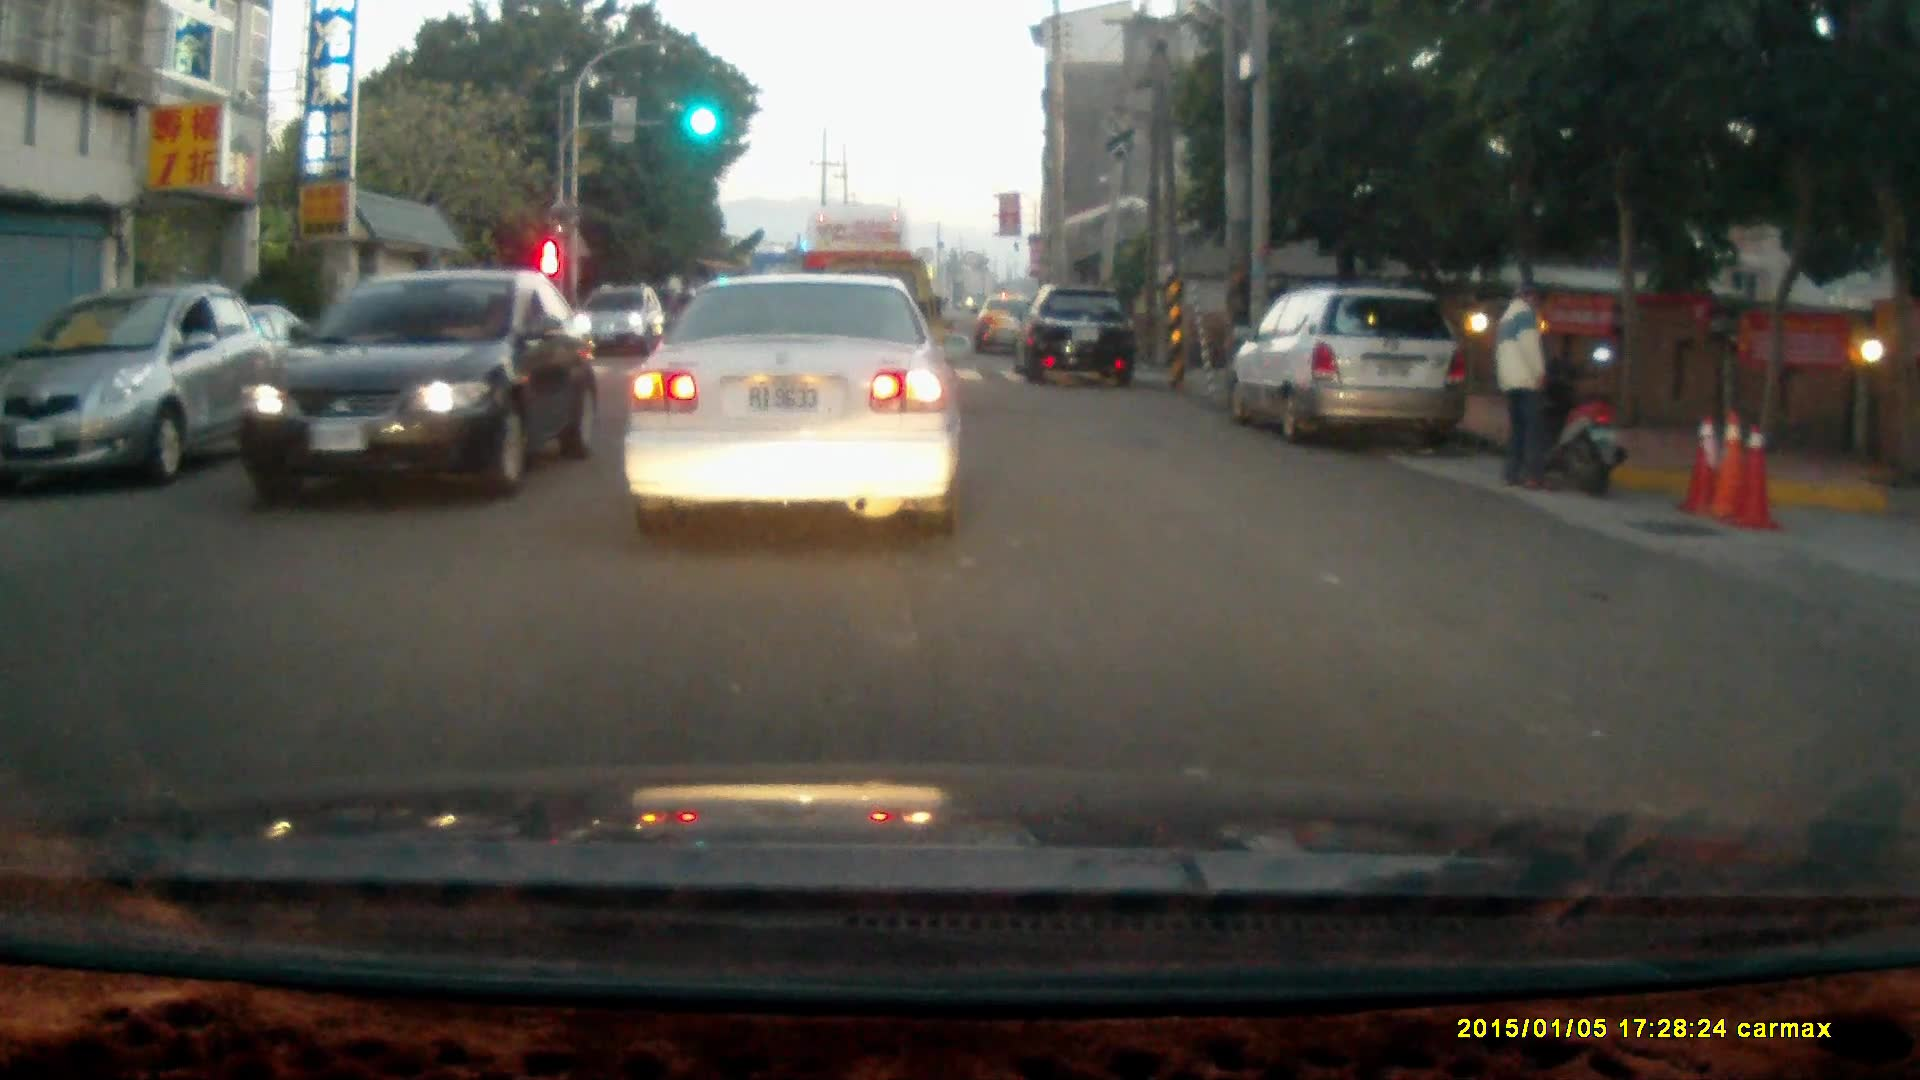pedestrian: (1493, 277, 1556, 494)
vehicle: (623, 273, 963, 540), (229, 269, 604, 507), (1, 286, 285, 489), (1241, 293, 1470, 457), (802, 205, 920, 378), (1019, 281, 1147, 387), (579, 283, 668, 358)
